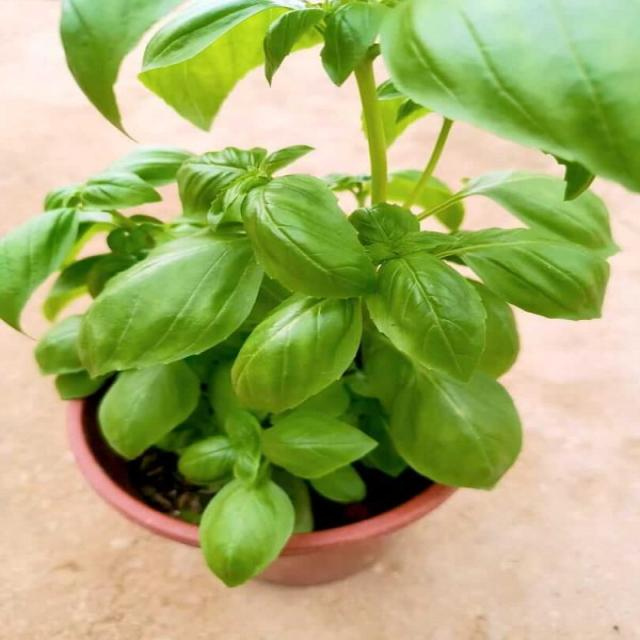Sweet Basil: (0, 0, 639, 551)
